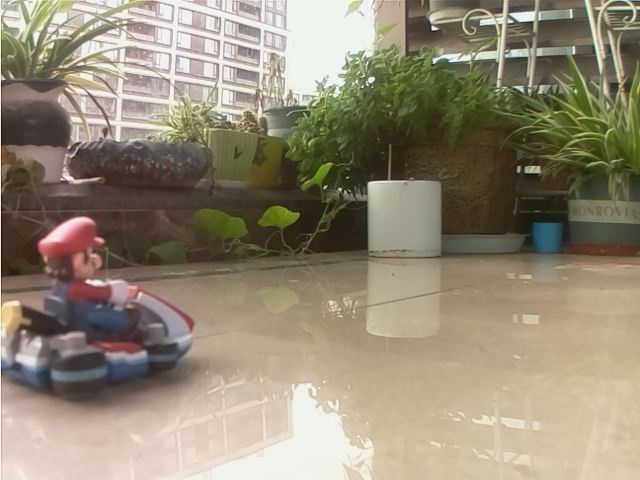mario: (5, 217, 204, 399)
